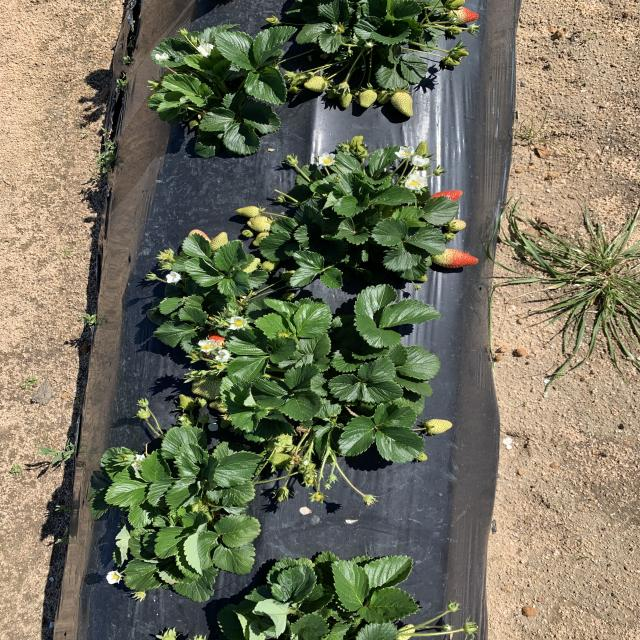unripe: (186, 327, 240, 359), (431, 189, 463, 204)
